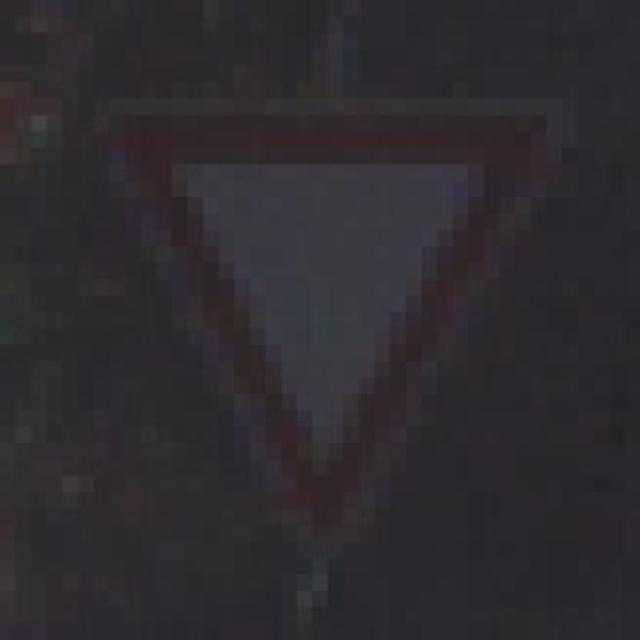Give Way: (33, 46, 612, 572)
